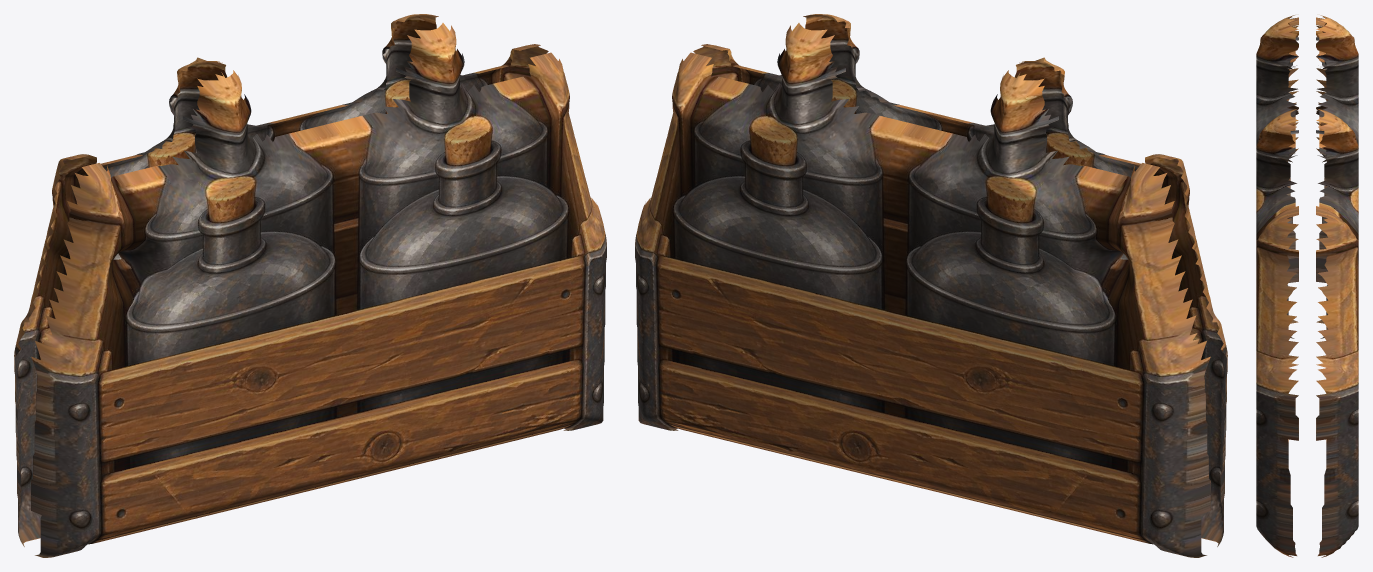
File: v4-mine-chamber-scatter-oil-crate.glb
3 renders of one model, left to right at view 1: azimuth 30°, elevation 25°; view 2: azimuth 150°, elevation 25°; view 3: azimuth 270°, elevation 25°, orthographic. The views are drawn at different scales.
Visible parts, largest first — view 1: v4-mine-chamber-scatter-oil-crate; view 2: v4-mine-chamber-scatter-oil-crate; view 3: v4-mine-chamber-scatter-oil-crate.
Boxes of the visible parts, <box> form: v4-mine-chamber-scatter-oil-crate: <box>14,14,606,557</box>; v4-mine-chamber-scatter-oil-crate: <box>635,14,1227,557</box>; v4-mine-chamber-scatter-oil-crate: <box>1256,15,1358,557</box>.
Size of the model in its own units: 1.33 by 0.9832 by 0.24.
Materials: 1 (1 with a texture image).
